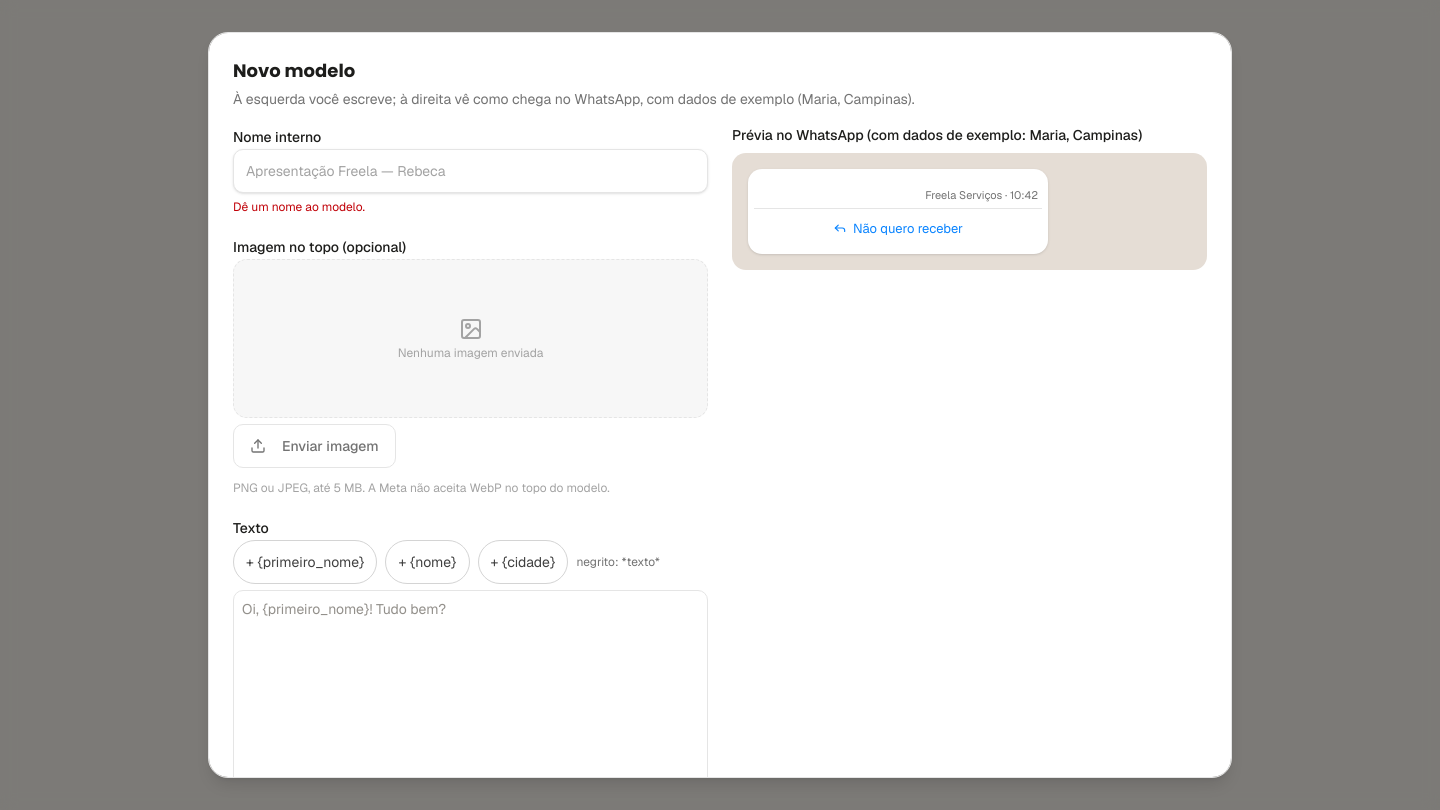
Test case: MarketingTemplateEditor › chip insere a variável onde está o cursor; prévia com Maria; contador com {{n}}
The width and height of the screenshot is (1440, 810).
Type "Oi, ! Tudo bem?" into the text box labelled "Texto" at (470, 699), box [233,590,708,808]
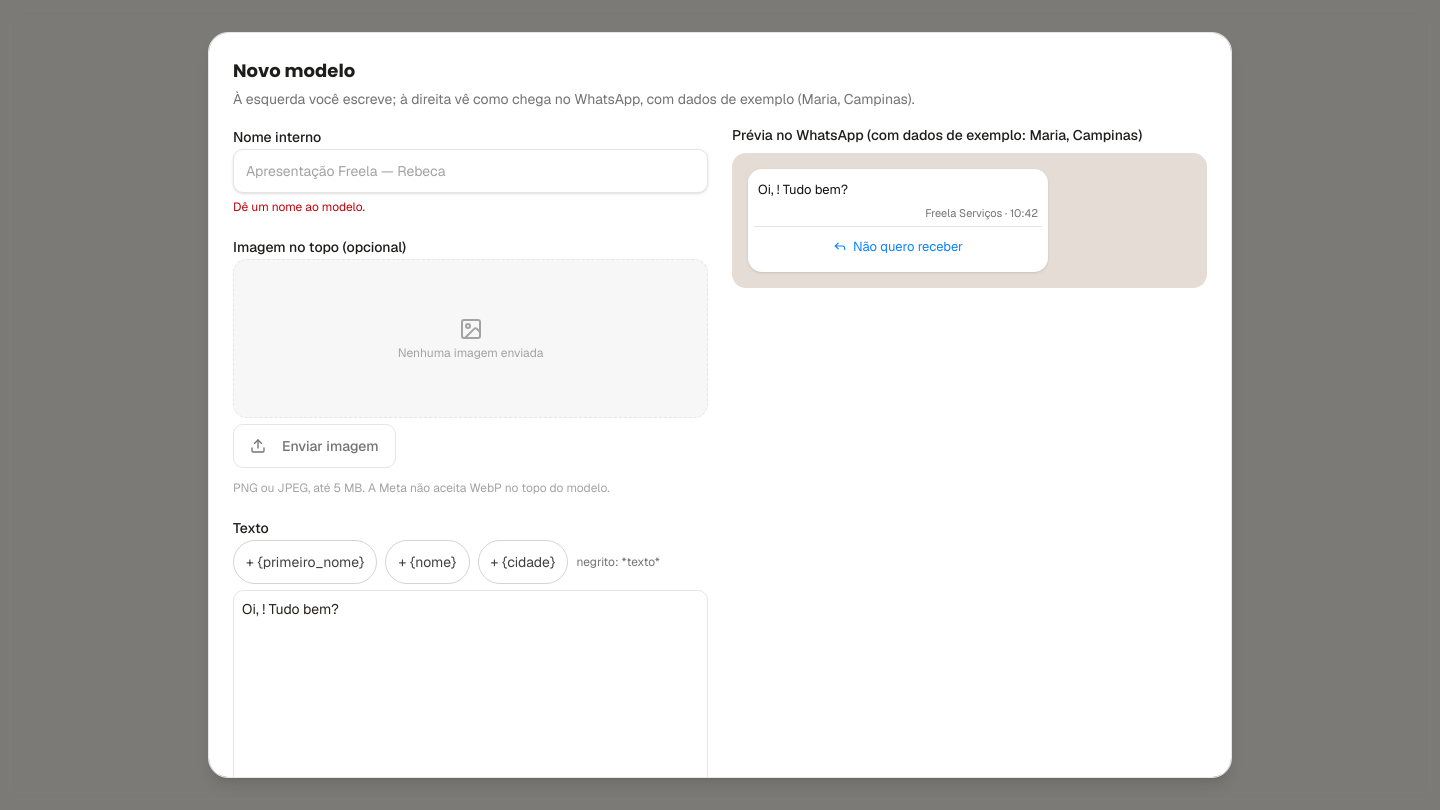
Click the button "+ {primeiro_nome}" at (305, 562), box [233,540,378,584]
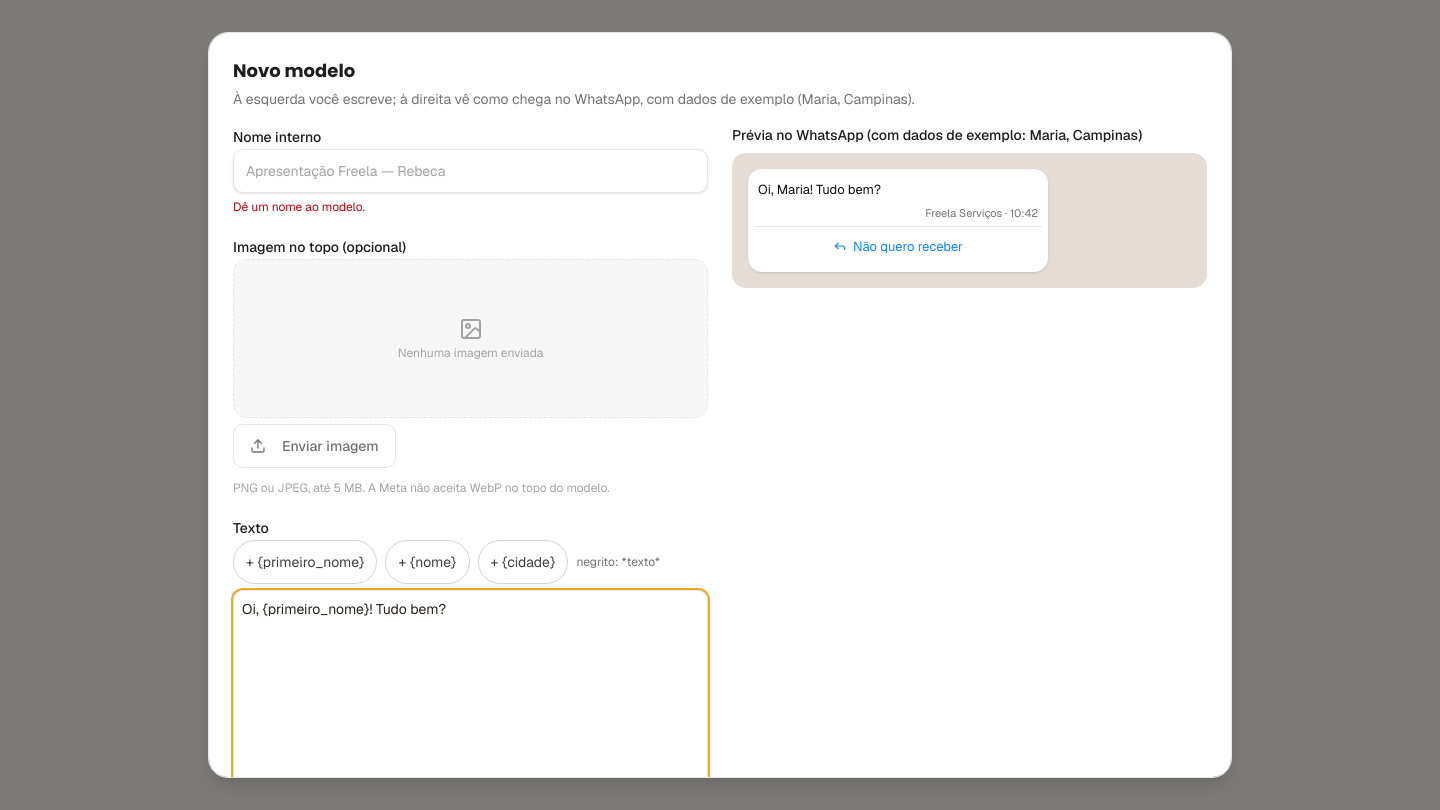
Expected: the button "+ {nome}" is shown, [386,540,470,584]
Expected: the text box labelled "Texto" holds "Oi, {primeiro_nome}! Tudo bem?", [233,590,708,778]
Expected: the element with test id "whatsapp-preview" shows "Oi, Maria! Tudo bem?", [758,181,881,198]
